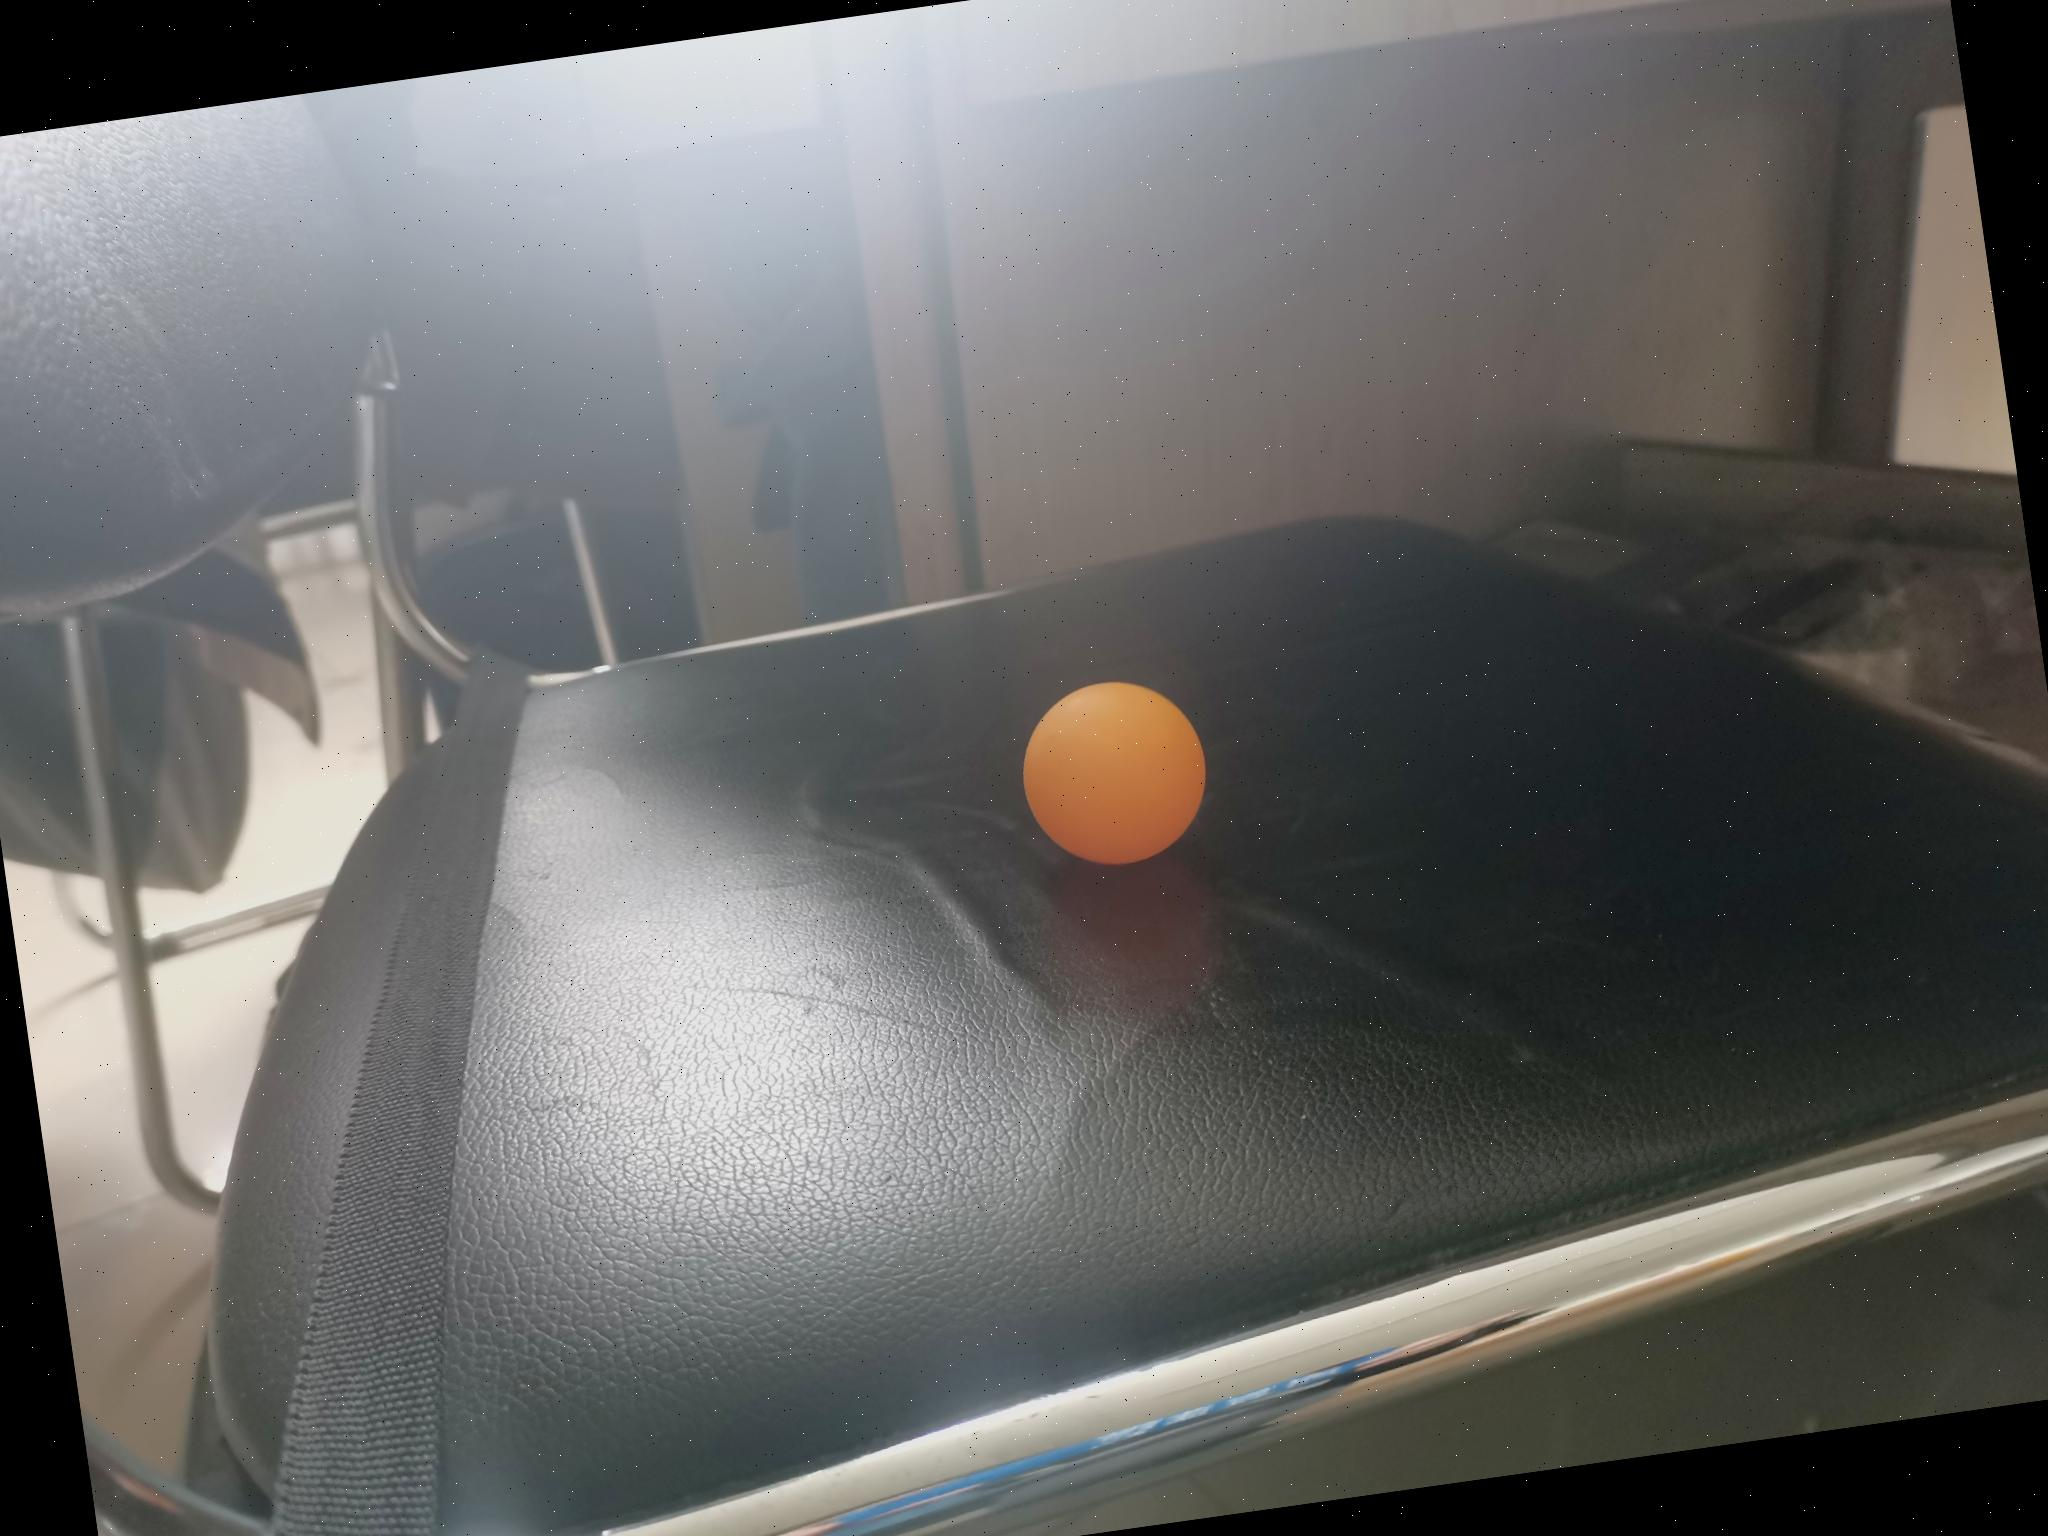ball: (1008, 666, 1216, 881)
